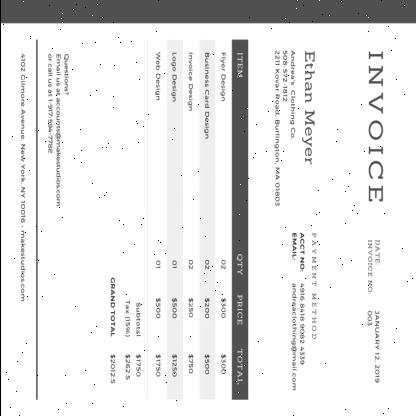Paragraph: (271, 47, 318, 210), (288, 228, 318, 394), (106, 272, 144, 393), (43, 48, 71, 210), (364, 48, 386, 206), (16, 48, 29, 306), (364, 236, 382, 386)
Table: (146, 39, 247, 400)
